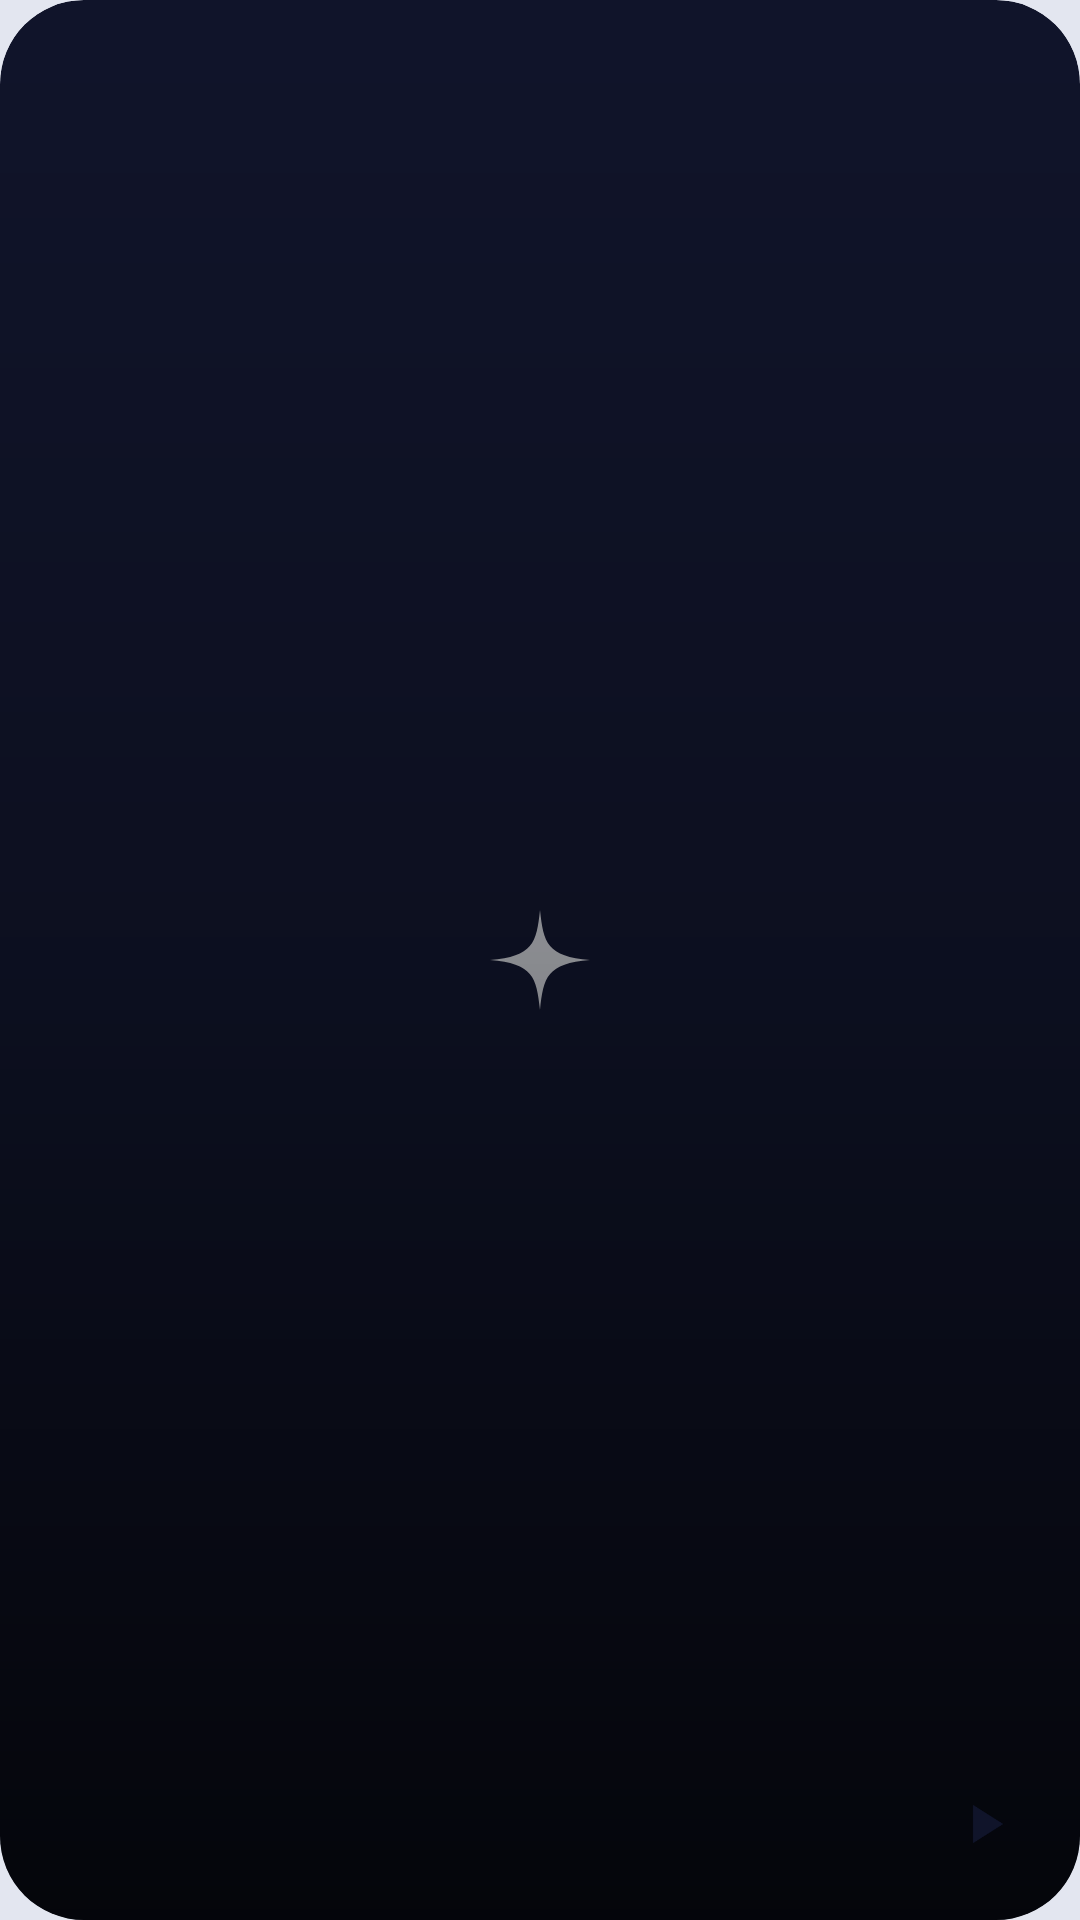

Locate icon controls on the screen. Image size 1080×1920, boxes as BBox(x1, y1, x2, y2).
widget play: BBox(973, 1806, 1002, 1842)
widget star: BBox(492, 912, 588, 1008)
